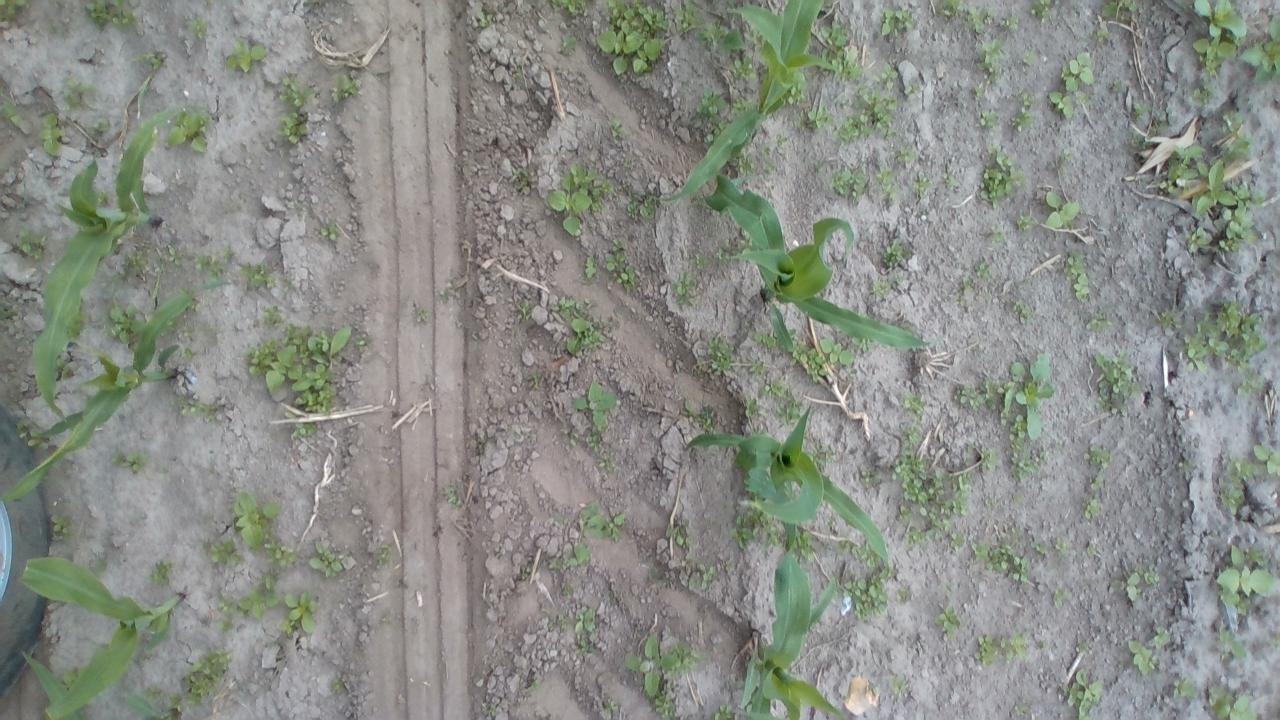Maize: (27, 105, 195, 426), (2, 278, 229, 504), (641, 0, 874, 203), (708, 172, 932, 353), (682, 404, 892, 569), (17, 553, 185, 720), (735, 471, 843, 720), (22, 652, 78, 719), (132, 50, 168, 118), (124, 694, 177, 719)
Weeds: (246, 321, 354, 444), (890, 452, 970, 548), (1186, 302, 1270, 375), (538, 162, 616, 237), (996, 348, 1054, 441), (551, 293, 624, 357), (836, 540, 894, 620), (1214, 542, 1274, 616), (1191, 0, 1245, 79), (216, 574, 282, 634), (1092, 343, 1146, 409), (619, 630, 674, 694), (1044, 48, 1092, 121), (972, 539, 1034, 586), (979, 146, 1026, 207), (596, 29, 664, 71), (1006, 414, 1048, 481), (1242, 13, 1280, 87), (232, 490, 278, 550), (939, 0, 1016, 34), (1216, 202, 1266, 253), (1154, 145, 1202, 197), (185, 648, 232, 700), (570, 380, 622, 426), (817, 25, 859, 80), (1196, 158, 1238, 212), (572, 596, 604, 666), (1092, 1, 1142, 44), (168, 108, 216, 152), (568, 428, 616, 472), (603, 0, 665, 34), (602, 236, 638, 293), (1068, 666, 1106, 720), (735, 507, 781, 550), (580, 500, 628, 540), (855, 84, 896, 130), (282, 590, 320, 639), (951, 375, 1000, 413), (1114, 566, 1162, 604), (1040, 193, 1084, 234), (1206, 685, 1256, 720), (791, 340, 830, 384), (106, 303, 146, 344), (275, 76, 319, 112), (622, 182, 662, 220), (833, 168, 871, 208), (228, 36, 270, 72), (702, 334, 738, 376), (1221, 104, 1249, 158), (264, 540, 304, 577), (80, 0, 134, 27), (309, 544, 346, 582), (669, 641, 709, 676), (13, 228, 54, 262), (1062, 251, 1088, 301), (39, 114, 68, 158), (682, 398, 721, 430), (879, 8, 918, 40), (119, 446, 160, 476), (682, 560, 718, 594), (1128, 638, 1158, 678), (978, 38, 1008, 78), (278, 110, 312, 145), (676, 7, 708, 44), (548, 544, 593, 570), (819, 336, 860, 364), (123, 246, 153, 284), (672, 270, 701, 309), (1217, 631, 1252, 663), (934, 603, 964, 640), (1250, 441, 1280, 478), (998, 632, 1032, 664), (68, 77, 106, 105), (776, 390, 805, 426), (1006, 90, 1034, 127), (241, 264, 275, 294), (795, 530, 824, 564), (972, 635, 1001, 668), (901, 393, 934, 422), (691, 90, 722, 120), (143, 559, 173, 589), (956, 278, 987, 307), (208, 540, 242, 566), (442, 480, 473, 508), (666, 520, 696, 548), (840, 114, 864, 148), (811, 440, 840, 468), (15, 417, 41, 448), (654, 692, 682, 720), (1172, 674, 1200, 702), (882, 243, 912, 269), (187, 394, 218, 419), (1235, 372, 1268, 395), (1084, 445, 1114, 470), (364, 540, 392, 566), (1218, 484, 1246, 510), (1190, 81, 1216, 109), (1239, 186, 1265, 214), (980, 443, 1000, 478), (333, 75, 361, 99), (1226, 455, 1258, 476), (0, 0, 25, 25), (1154, 306, 1179, 330), (0, 100, 22, 127), (876, 166, 896, 195), (1186, 224, 1206, 253), (1054, 587, 1080, 609), (513, 296, 532, 326), (878, 64, 898, 92), (742, 397, 766, 420), (860, 468, 883, 492), (704, 24, 726, 49), (318, 221, 344, 242), (548, 0, 592, 12), (903, 427, 928, 448), (1088, 314, 1114, 334), (804, 108, 830, 128), (49, 514, 72, 536), (1082, 499, 1106, 520), (694, 252, 719, 272), (824, 508, 844, 532), (752, 331, 782, 347), (730, 56, 754, 76), (755, 378, 786, 393), (1152, 626, 1173, 648), (1014, 298, 1034, 320), (899, 144, 920, 164), (602, 696, 624, 715), (872, 278, 891, 300), (436, 282, 459, 300), (264, 304, 284, 324), (978, 110, 998, 130), (188, 18, 208, 38), (914, 173, 936, 191), (1032, 0, 1054, 18), (711, 703, 735, 719), (1052, 536, 1073, 554), (895, 586, 917, 603), (582, 258, 598, 281), (92, 116, 110, 136), (482, 698, 500, 718), (167, 246, 185, 266), (735, 154, 755, 172), (749, 357, 770, 374), (1016, 215, 1038, 231), (989, 226, 1008, 244), (1130, 100, 1148, 119), (730, 98, 756, 111), (528, 371, 544, 392), (1078, 636, 1096, 654), (560, 580, 578, 598), (205, 268, 228, 282), (760, 161, 780, 177), (353, 333, 370, 351), (975, 257, 994, 273), (608, 118, 624, 137), (60, 668, 80, 682), (1088, 474, 1106, 489), (562, 35, 576, 54), (894, 680, 910, 696), (1021, 51, 1037, 67), (414, 306, 429, 322), (145, 684, 164, 696), (1086, 541, 1100, 557), (1014, 701, 1030, 715), (183, 348, 197, 364), (1036, 540, 1050, 556), (1059, 150, 1075, 164), (942, 172, 956, 188), (225, 248, 240, 262), (983, 495, 998, 508), (334, 677, 346, 693), (972, 84, 984, 98), (195, 255, 210, 266), (1110, 77, 1122, 90), (761, 144, 774, 153), (776, 133, 786, 144), (478, 19, 488, 28)
